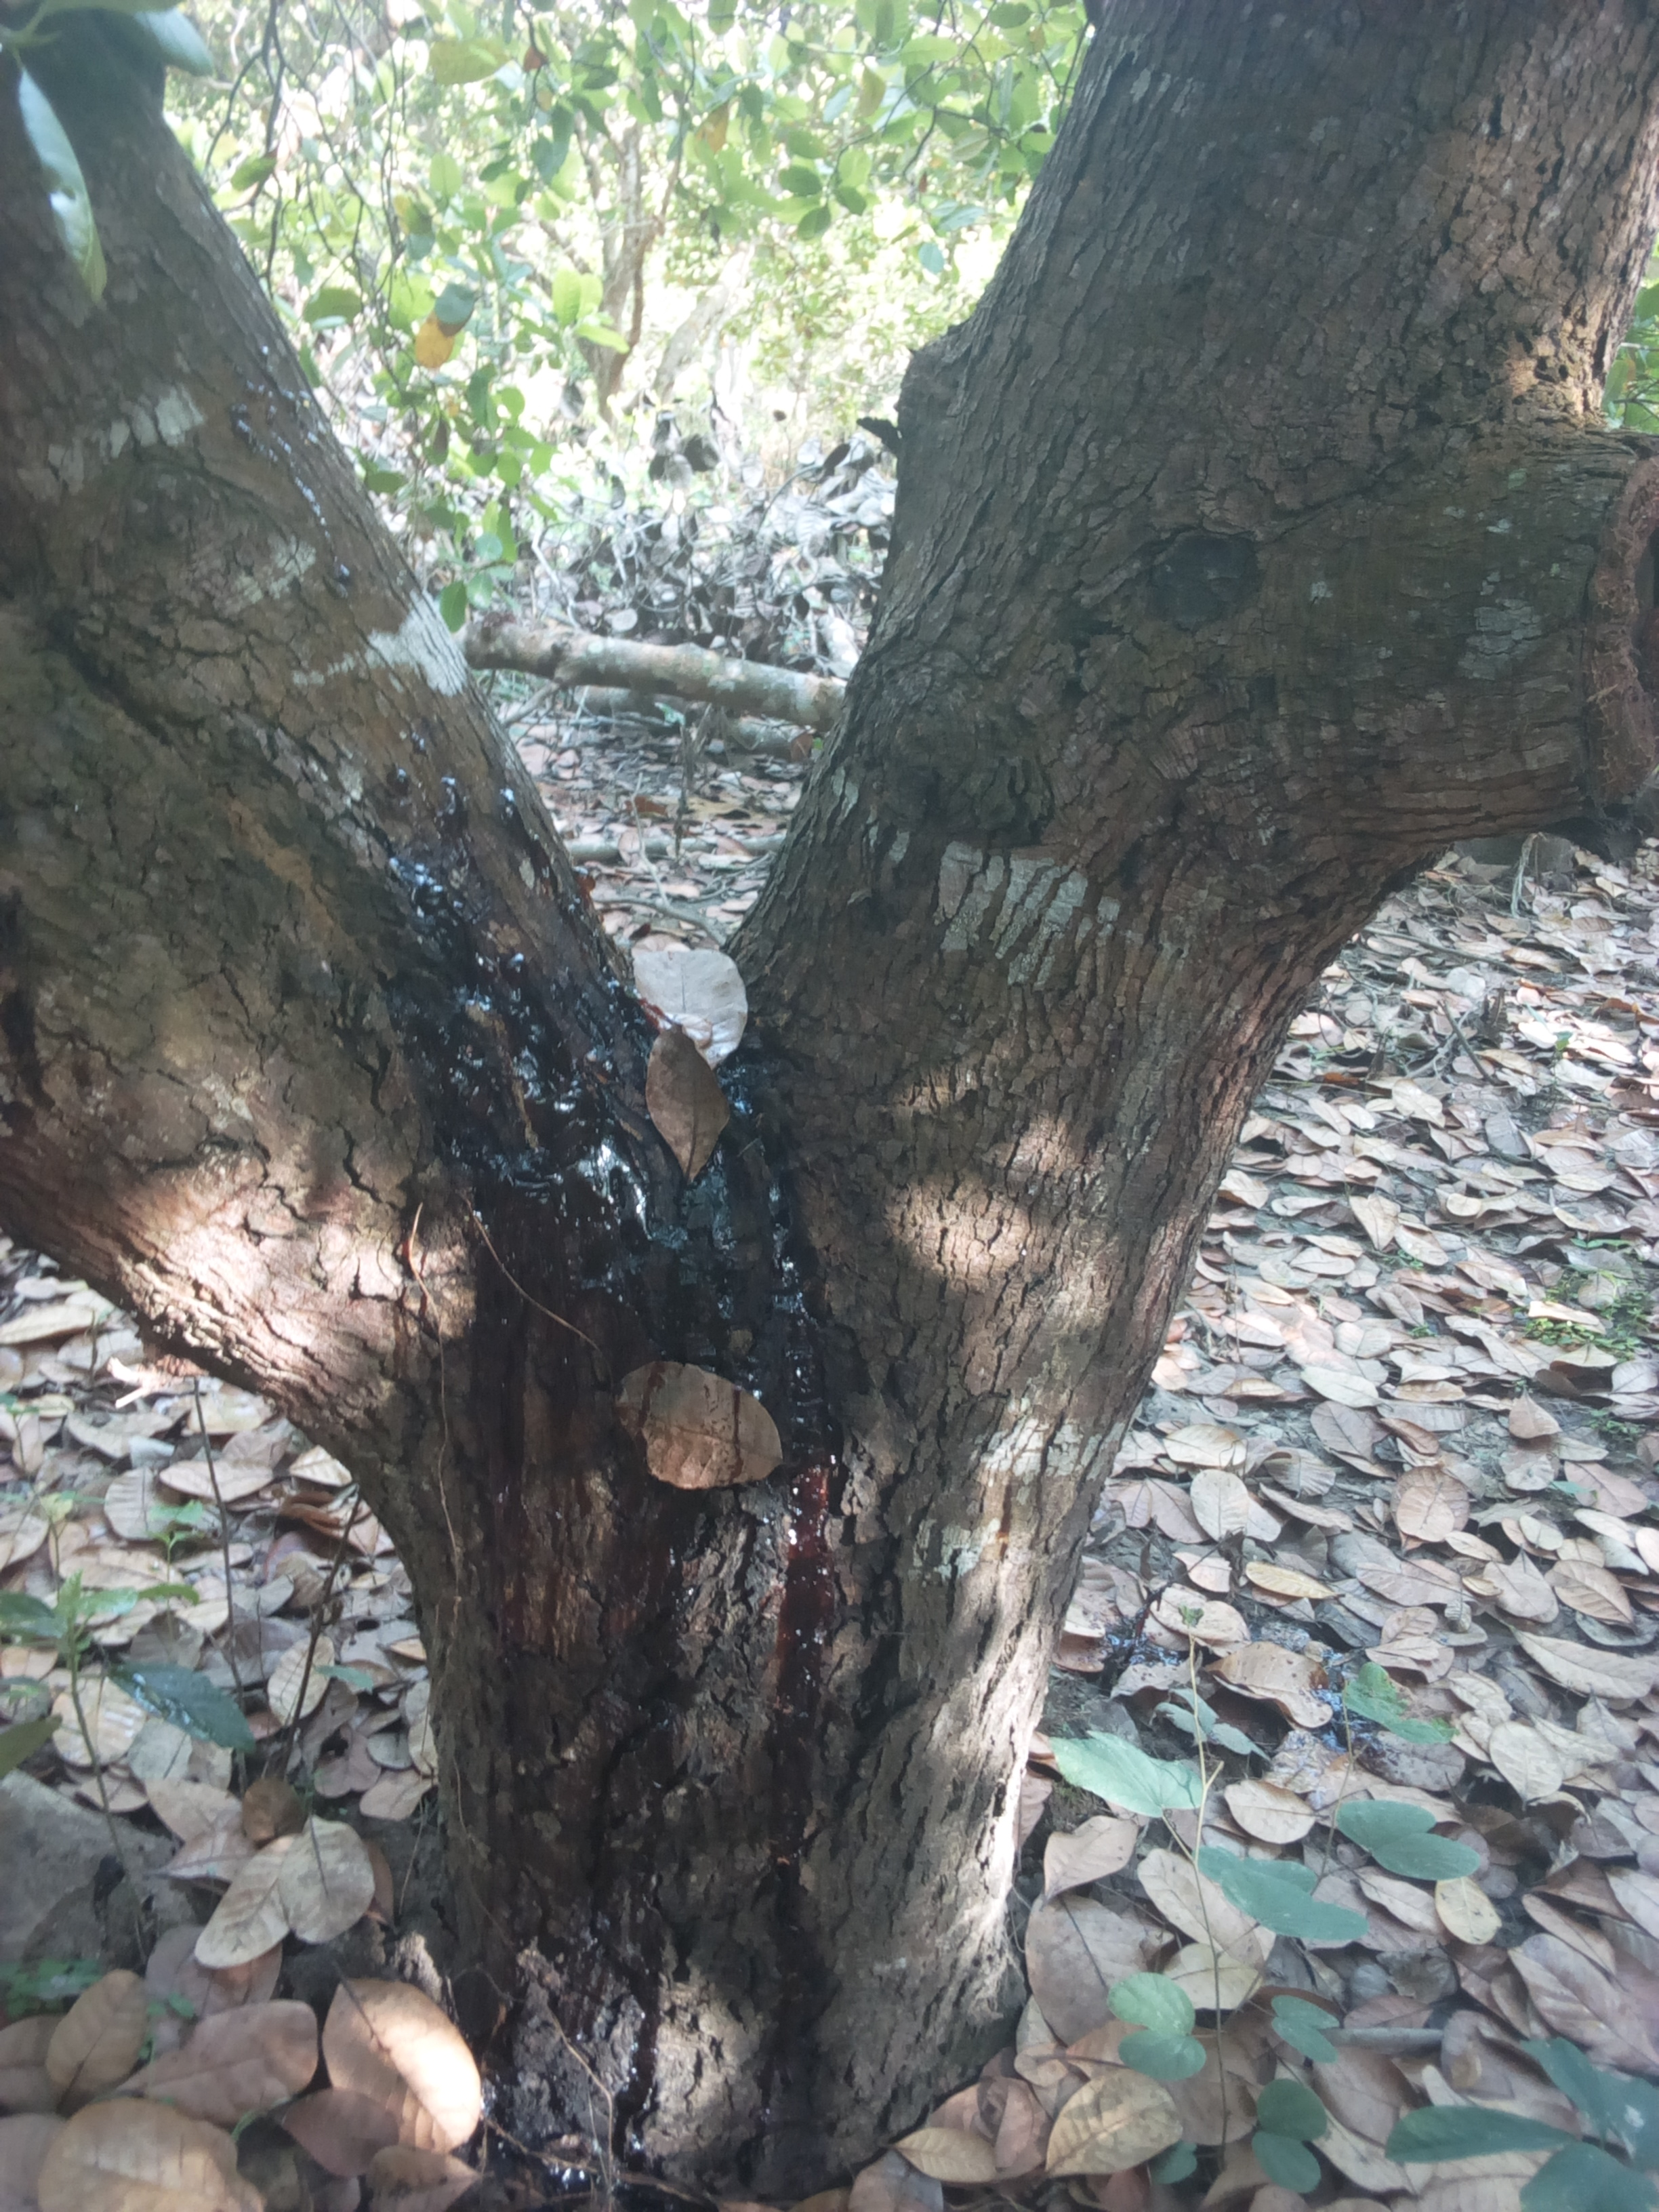Mecocorynus longiceps: (362, 773, 861, 1568)
